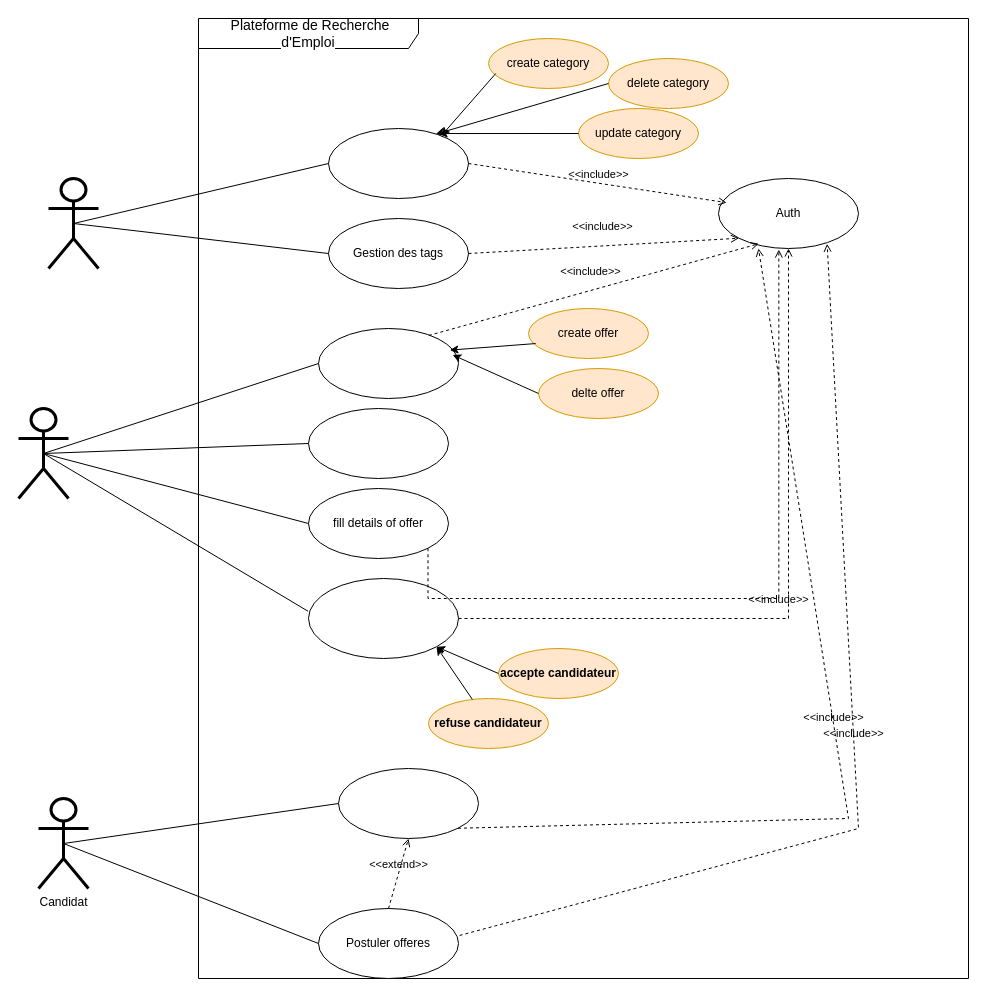
This 986x996 diagram has some shape labels left out. Here are the shapes that lost their labels. From the top down, the box of each, then its label:
(328, 128, 468, 198): Gestion des category
(46, 176, 100, 270): Admin
(318, 328, 458, 398): gestion des offeres
(16, 406, 70, 500): Recruteur
(308, 408, 448, 478): lier offer with categore
(308, 578, 458, 658): Gestion des candidatures
(338, 768, 478, 838): Consulter des job recommandé
